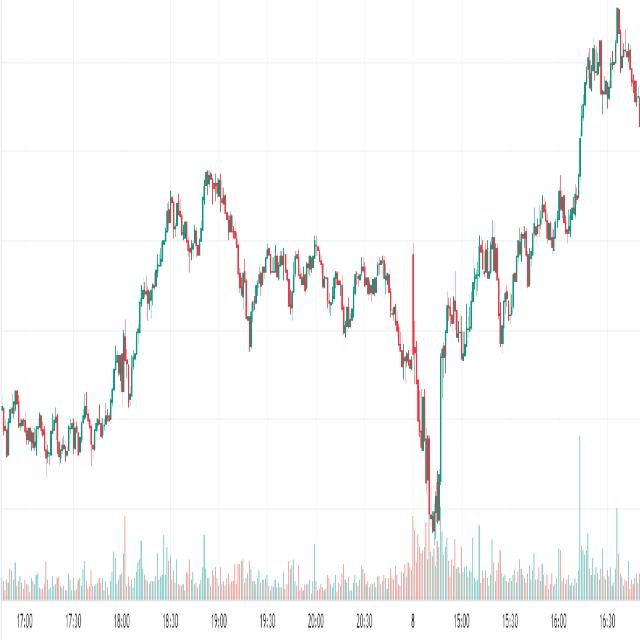Inverse-Head-Shoulders: (385, 264, 477, 540)
Rising-Wedge: (494, 170, 581, 381)
